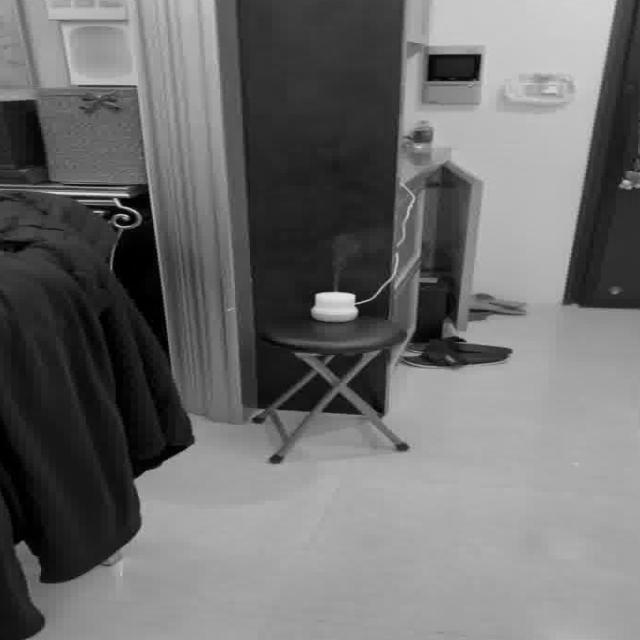fire: (325, 233, 378, 284)
